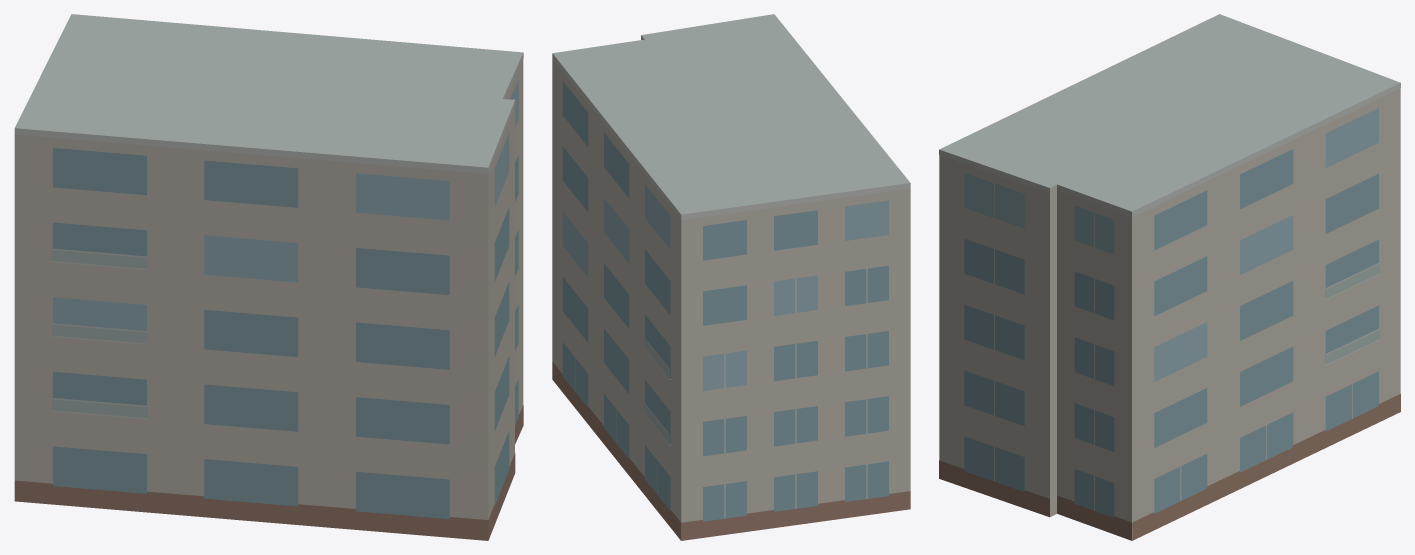
The model's file is survey-upis-32883581.glb.
3 renders of one model, left to right at view 1: azimuth 30°, elevation 25°; view 2: azimuth 150°, elevation 25°; view 3: azimuth 270°, elevation 25°, orthographic. The views are drawn at different scales.
Parts seen in each view (by area): view 1: survey-upis-32883581.tmp; view 2: survey-upis-32883581.tmp; view 3: survey-upis-32883581.tmp.
Boxes of the visible parts, <box> form: survey-upis-32883581.tmp: <box>14,14,523,540</box>; survey-upis-32883581.tmp: <box>552,14,910,540</box>; survey-upis-32883581.tmp: <box>939,14,1400,540</box>.
Size of the model in its own units: 18.81 by 14.6 by 18.56.
